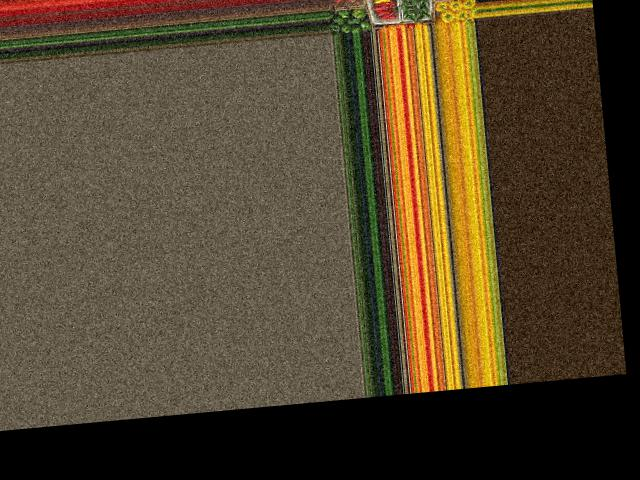bell_pepper: (336, 6, 352, 23)
